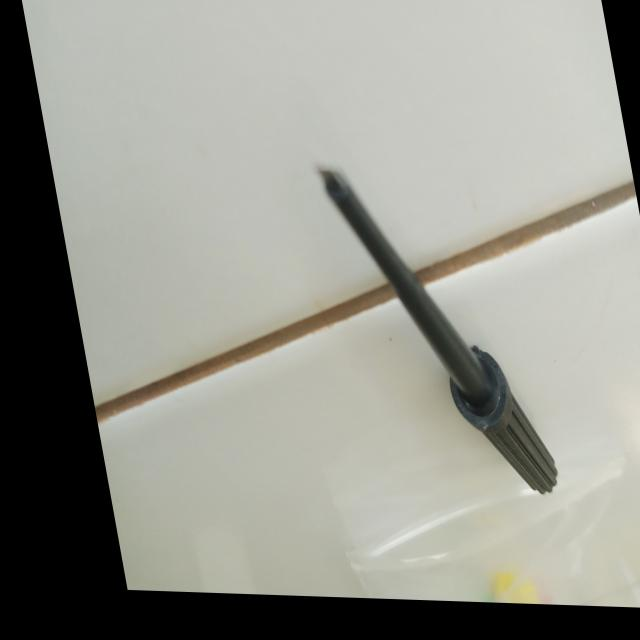Screw Driver: (303, 160, 573, 524)
